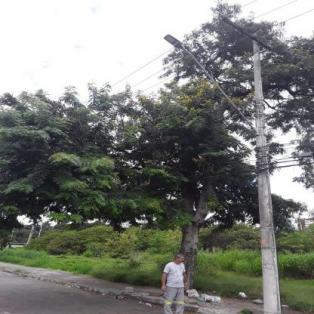Poste: (249, 31, 285, 314)
